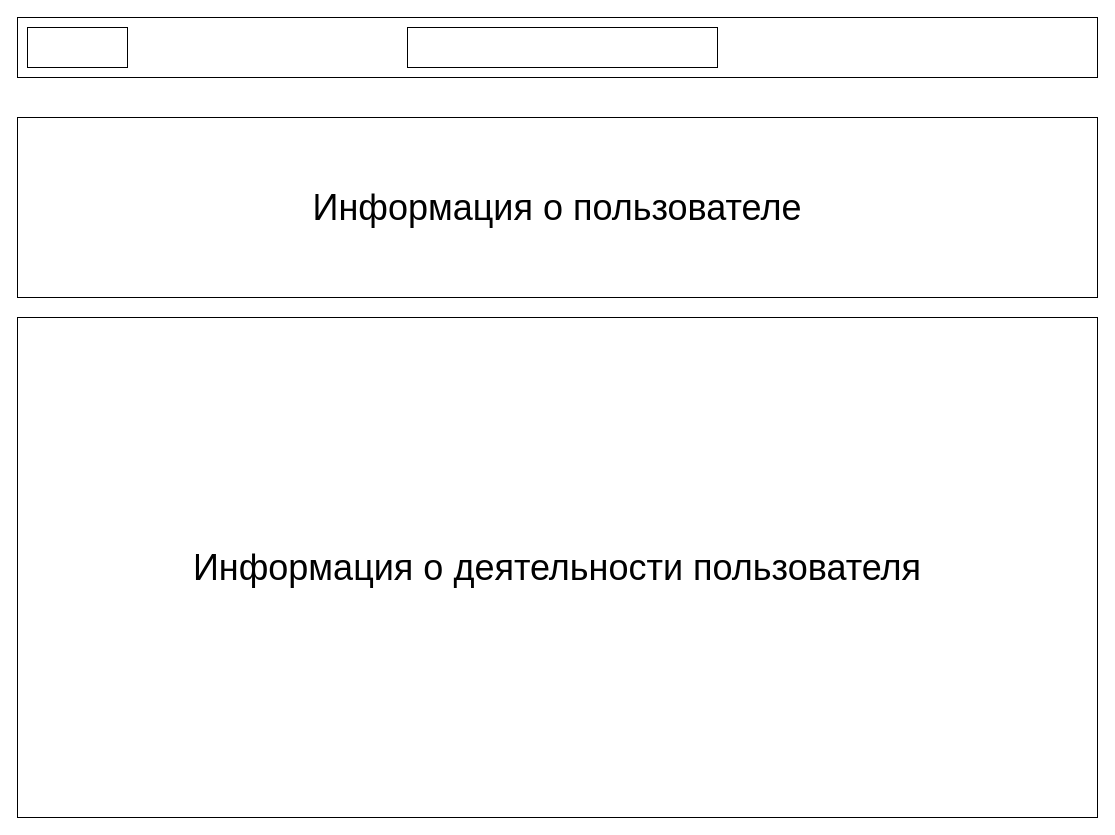
Image size: 1115x835. Some labels were removed from this diagram. The shapes that lost their labels are listed below. From the top down, each one's centre as x and y in pixels, then its label:
At (77,47): "Логотип".
At (562,47): "Поиск".
